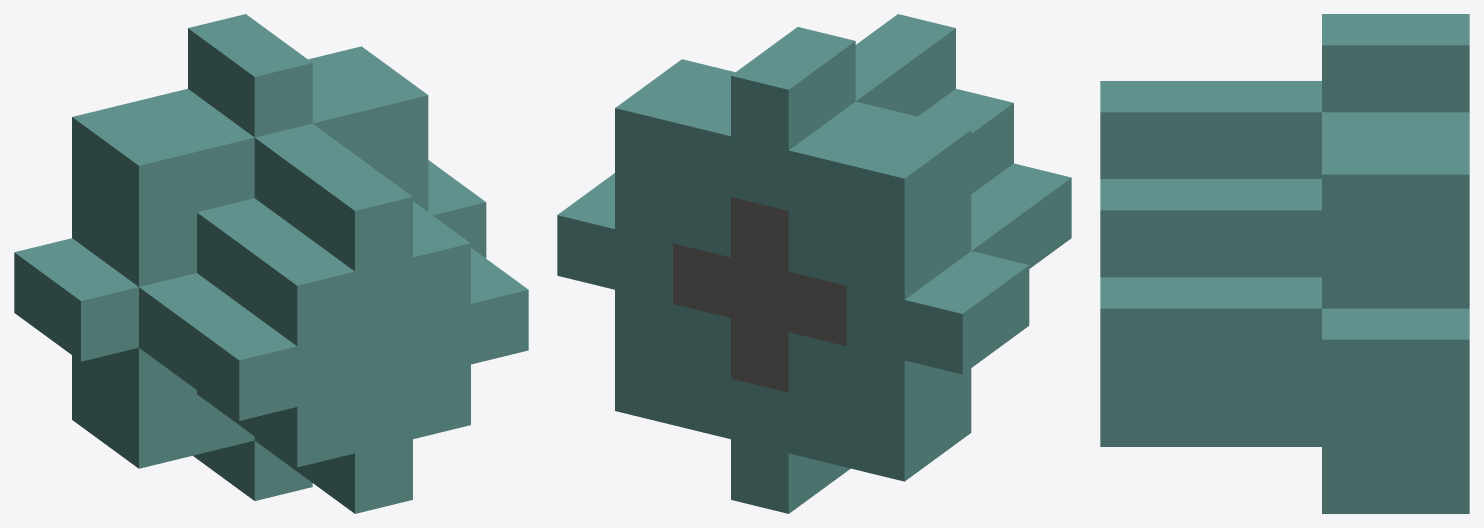
Rendered from cowl_s.glb.
3 renders of one model, left to right at view 1: azimuth 30°, elevation 25°; view 2: azimuth 150°, elevation 25°; view 3: azimuth 270°, elevation 25°, orthographic. The views are drawn at different scales.
Bounding box in the file's own units: 7 × 7 × 5.
